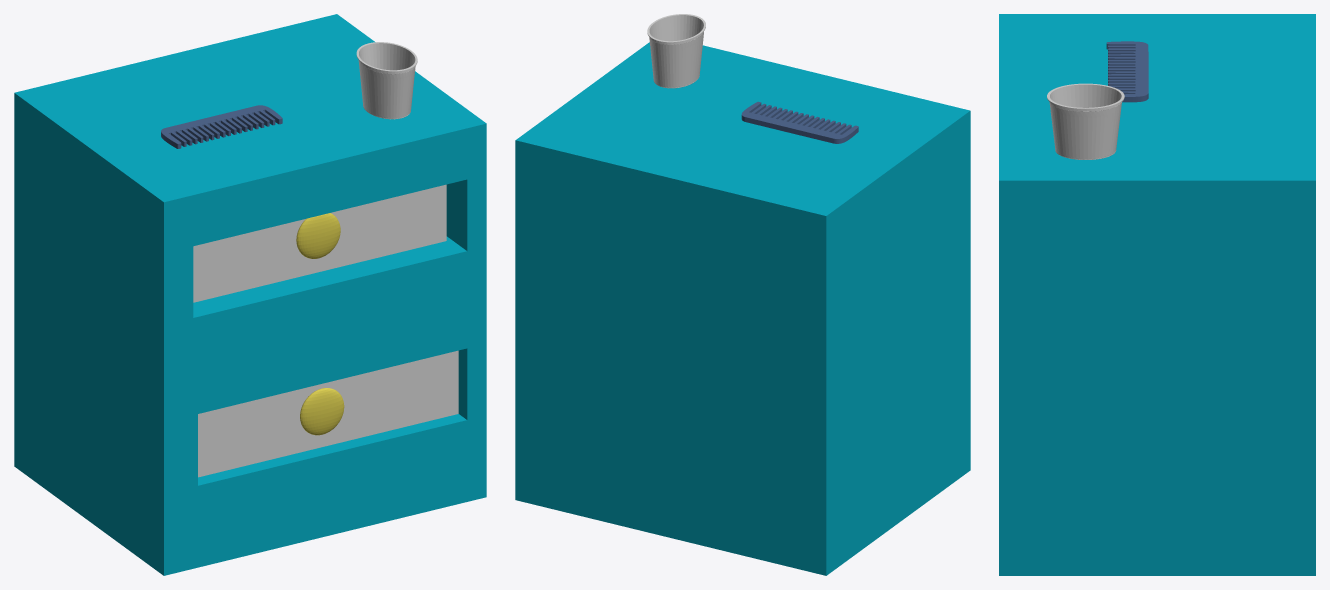
The picture shows the model from 3 angles, left to right: view 1: azimuth 30°, elevation 25°; view 2: azimuth 150°, elevation 25°; view 3: azimuth 270°, elevation 25°; orthographic projection. The views are drawn at different scales.
Visible parts, largest first — view 1: Mesh_Mesh_head_geo.001_lambert2SG.001; view 2: Mesh_Mesh_head_geo.001_lambert2SG.001; view 3: Mesh_Mesh_head_geo.001_lambert2SG.001.
Boxes of the visible parts, left/top/right/bottom form: Mesh_Mesh_head_geo.001_lambert2SG.001: left=14, top=14, right=486, bottom=575; Mesh_Mesh_head_geo.001_lambert2SG.001: left=515, top=14, right=970, bottom=575; Mesh_Mesh_head_geo.001_lambert2SG.001: left=999, top=14, right=1315, bottom=575.
Bounding box in the file's own units: 66 × 83 × 53.
